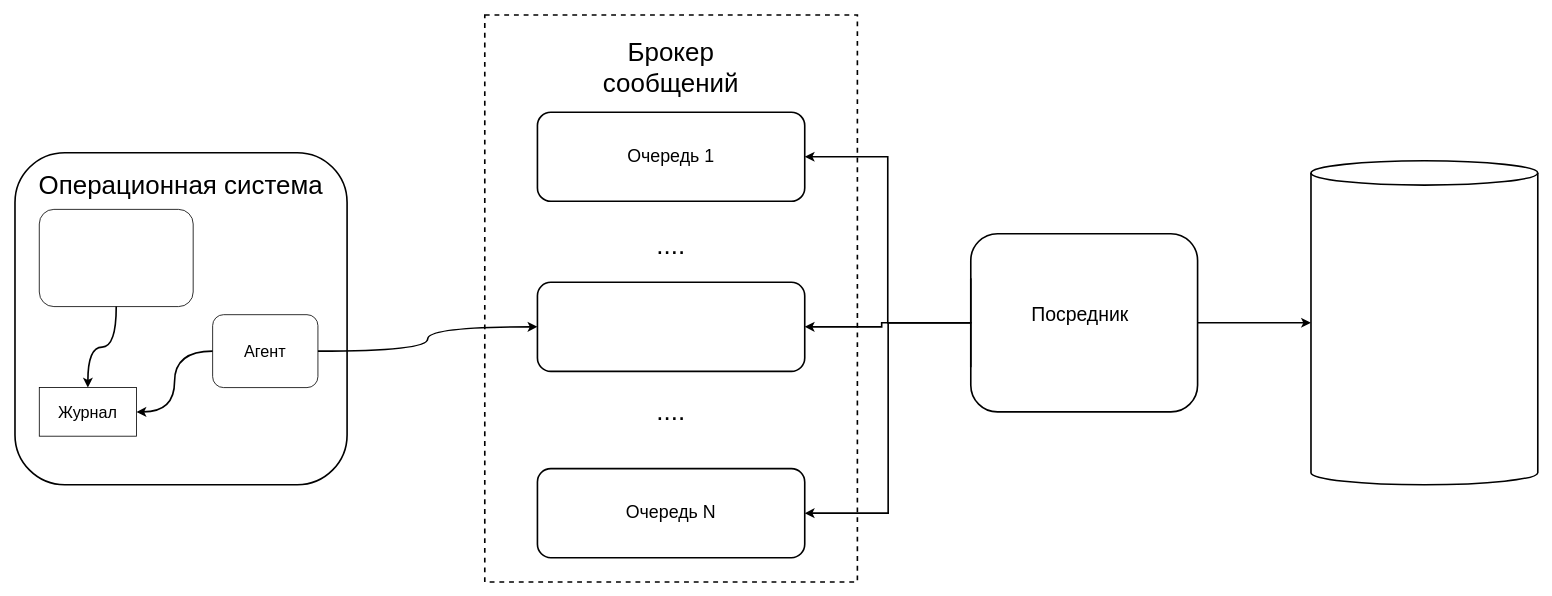
Some shapes in this 1552 by 596 pixel diagram are drawn without their labels. Here are the shapes that lost their labels. From the top down, the box of each, then its label:
(38, 209, 193, 307): Приложение
(536, 281, 805, 372): Очередь i
(1310, 160, 1538, 485): Колоночная база данных
